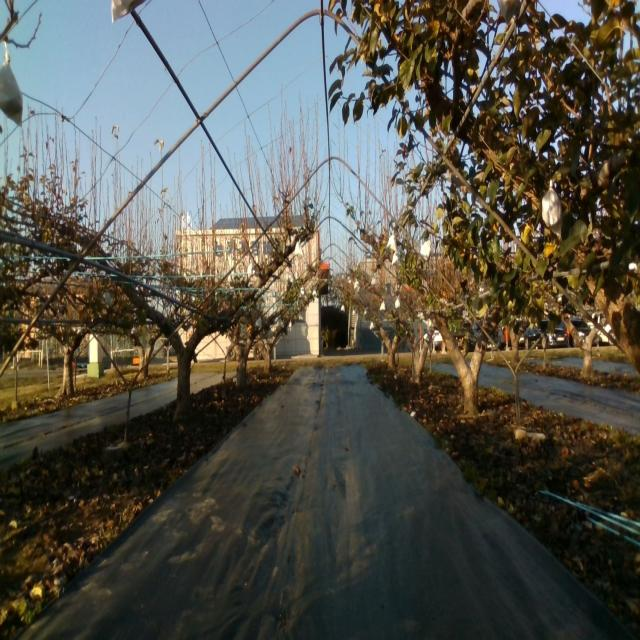pearbags: (0, 50, 24, 128), (541, 186, 564, 236), (419, 239, 432, 263)
